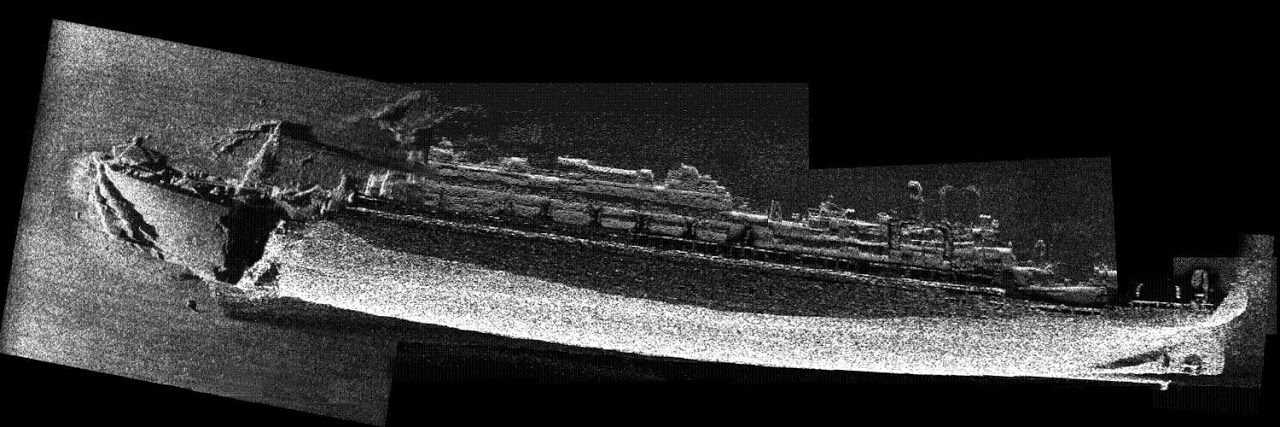ship: (87, 128, 1254, 395)
